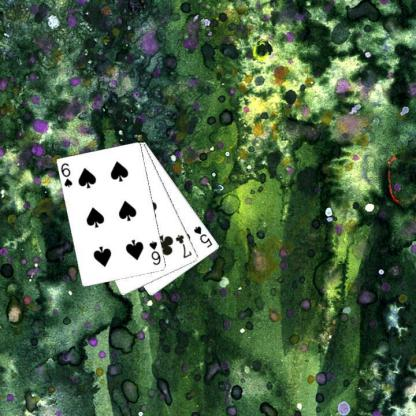5S: (191, 224, 214, 249)
6S: (58, 161, 74, 188), (147, 239, 162, 266)
7C: (173, 232, 193, 260)
